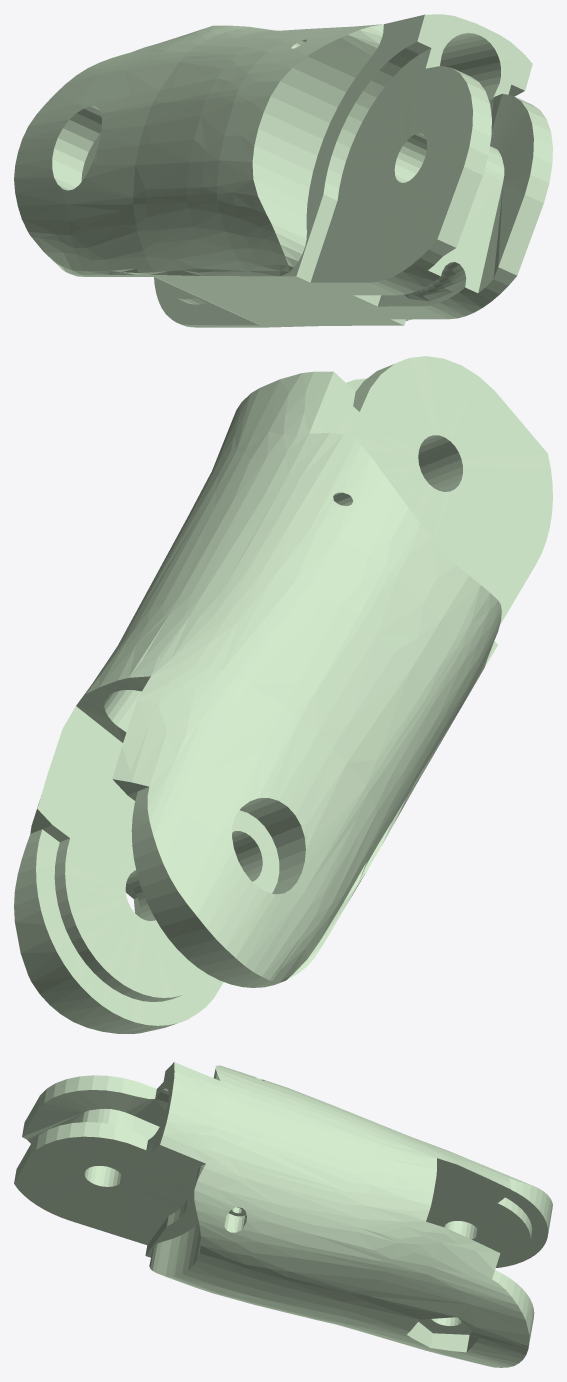
The model's file is i02_leftHand_ringFingerPhal_visual.obj.balanced.glb.
3 renders of one model, top to bottom at view 1: azimuth 30°, elevation 25°; view 2: azimuth 150°, elevation 25°; view 3: azimuth 270°, elevation 25°, orthographic. The views are drawn at different scales.
Size of the model in its own units: 0.214 by 0.3231 by 0.5002.
